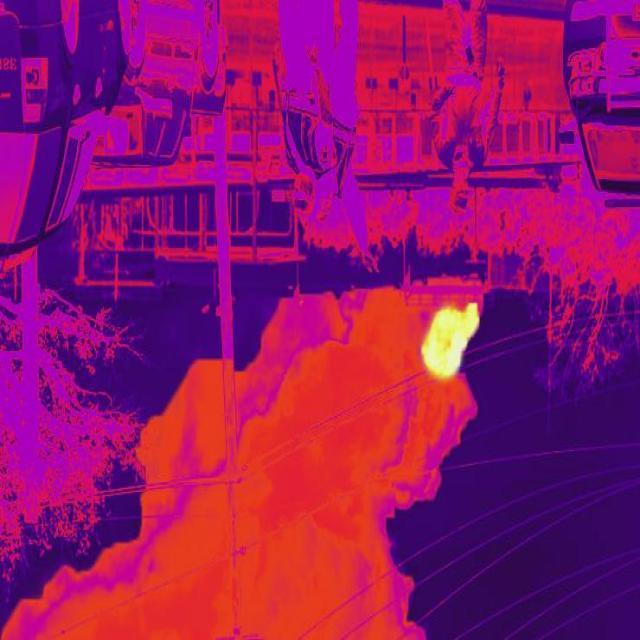fire: (420, 289, 484, 388)
